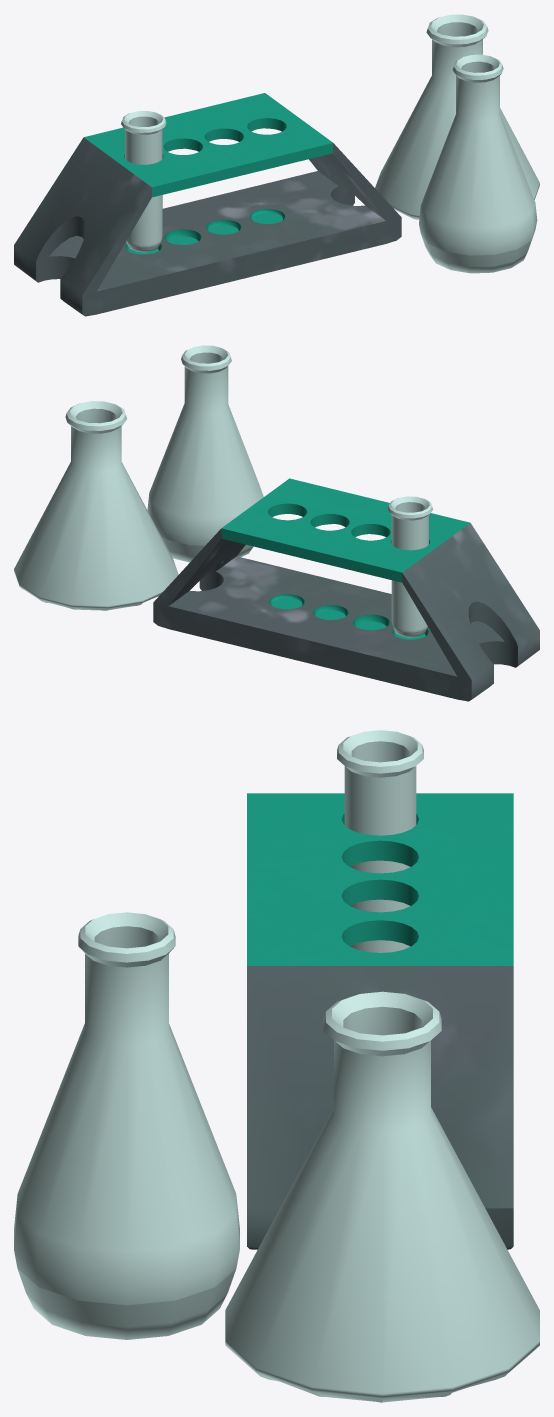
File: Flask_Tubes.fbx
The picture shows the model from 3 angles, top to bottom: view 1: azimuth 30°, elevation 25°; view 2: azimuth 150°, elevation 25°; view 3: azimuth 270°, elevation 25°; orthographic projection. The views are drawn at different scales.
Visible parts, largest first — view 1: polySurface7, pCylinder1, pasted__pasted__pCylinder1, pasted__pCylinder1; view 2: polySurface7, pasted__pasted__pCylinder1, pCylinder1, pasted__pCylinder1; view 3: polySurface7, pasted__pasted__pCylinder1, pCylinder1, pasted__pCylinder1.
Boxes of the visible parts, x1=… form: polySurface7: x1=14, y1=93, x2=401, y2=316; pCylinder1: x1=419, y1=54, x2=537, y2=273; pasted__pasted__pCylinder1: x1=375, y1=14, x2=539, y2=219; pasted__pCylinder1: x1=121, y1=111, x2=166, y2=252; polySurface7: x1=153, y1=478, x2=539, y2=701; pasted__pasted__pCylinder1: x1=14, y1=401, x2=178, y2=610; pCylinder1: x1=147, y1=345, x2=263, y2=562; pasted__pCylinder1: x1=387, y1=496, x2=432, y2=637; polySurface7: x1=247, y1=793, x2=513, y2=1249; pasted__pasted__pCylinder1: x1=225, y1=991, x2=539, y2=1402; pCylinder1: x1=14, y1=912, x2=239, y2=1339; pasted__pCylinder1: x1=337, y1=730, x2=423, y2=952.
Bounding box in the file's own units: 69.1 × 26.79 × 33.5.
